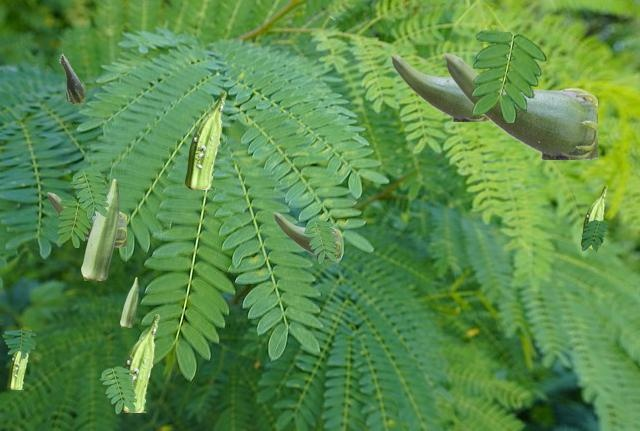okra: (443, 53, 596, 158), (390, 54, 487, 120), (47, 192, 125, 246), (185, 91, 225, 188), (81, 178, 118, 279), (122, 314, 158, 411), (273, 212, 339, 257), (581, 185, 606, 247), (59, 53, 84, 102), (120, 277, 137, 326), (7, 352, 29, 388)
